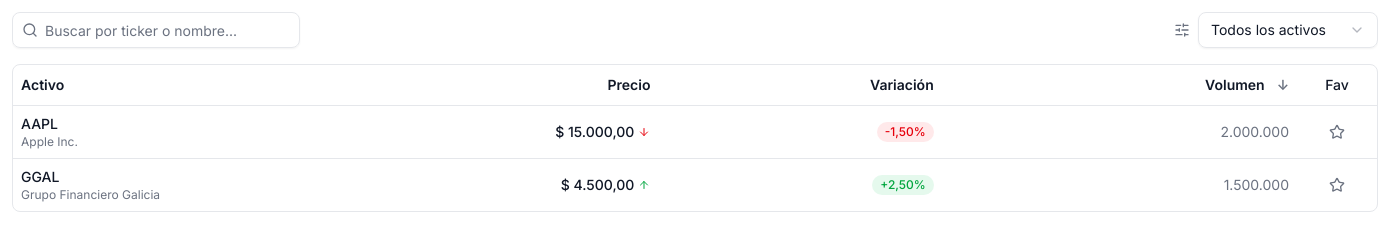
Test: AssetsTable › filters assets by search term
Type "apple" into the field with placeholder "Buscar por ticker o nombre...".
click(156, 30); type("apple")  # box [12, 12, 300, 48]
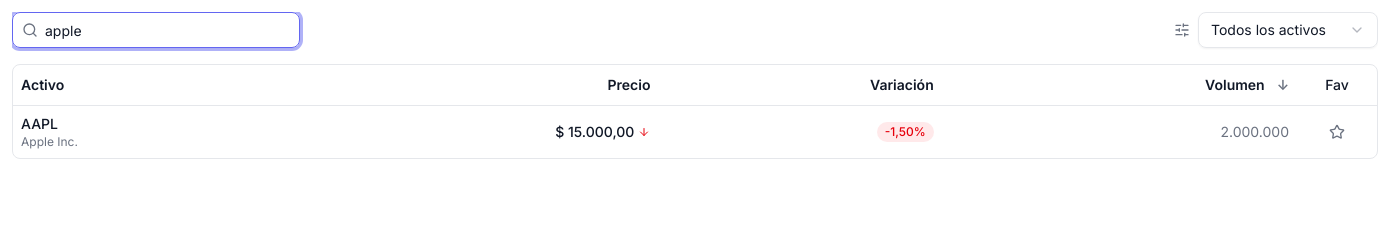
Check: the text "AAPL" is shown, box [21, 114, 58, 132]
Check: the link "GGAL" is gone
